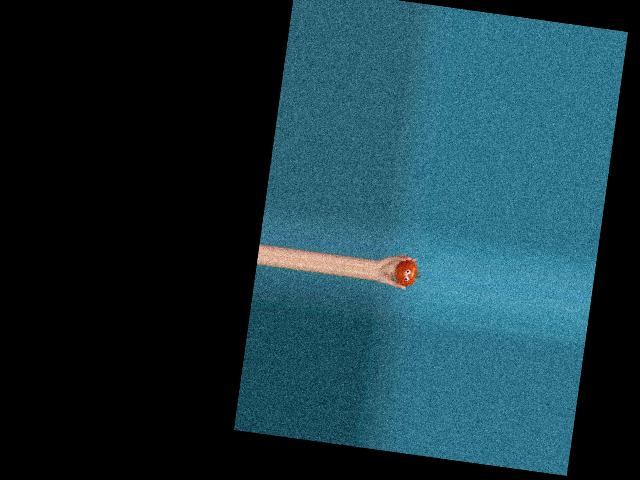tomato: (392, 258, 418, 287)
